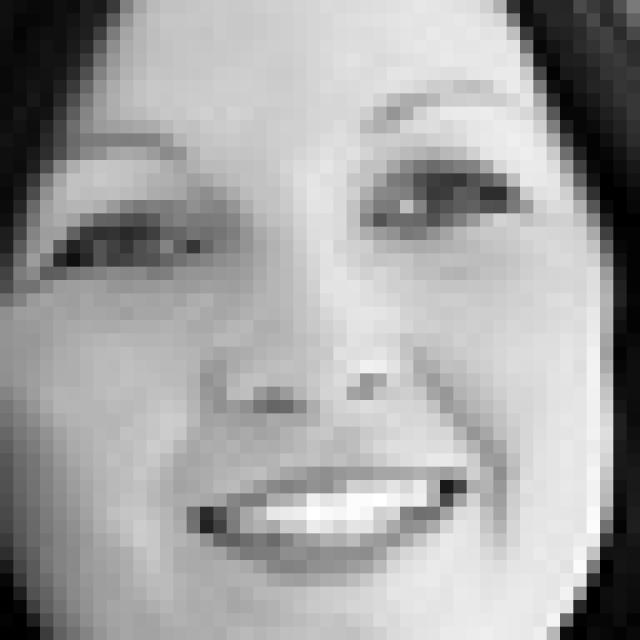happy: (39, 81, 539, 588)
